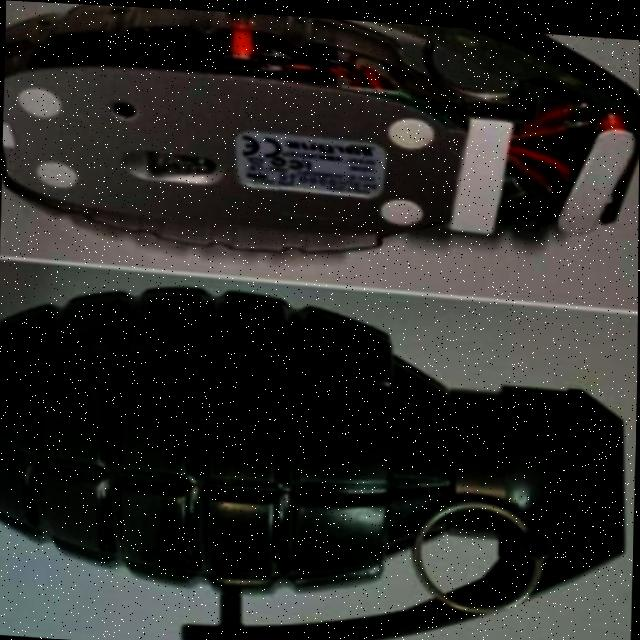grenade: (0, 262, 638, 640)
